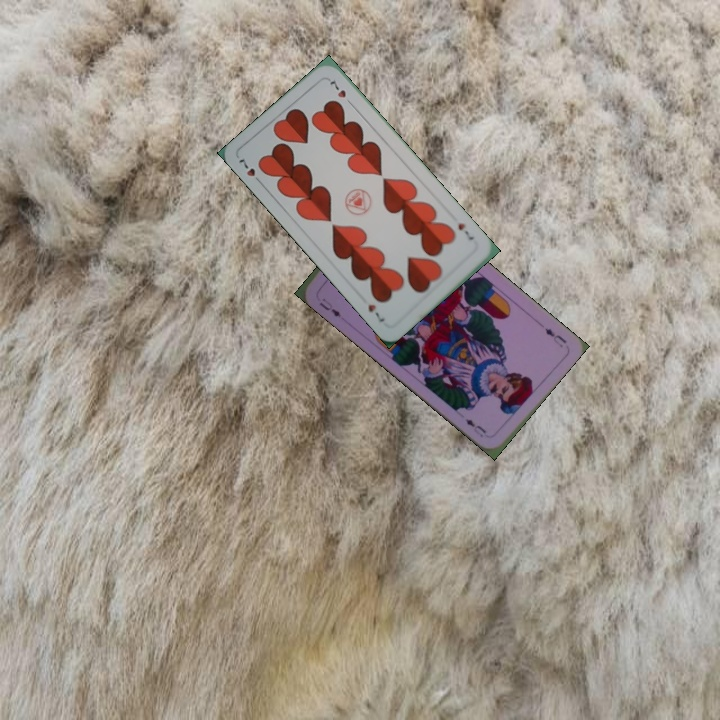EU: (540, 323, 569, 350), (315, 294, 343, 319)
H7: (235, 155, 265, 187), (454, 219, 476, 243)
